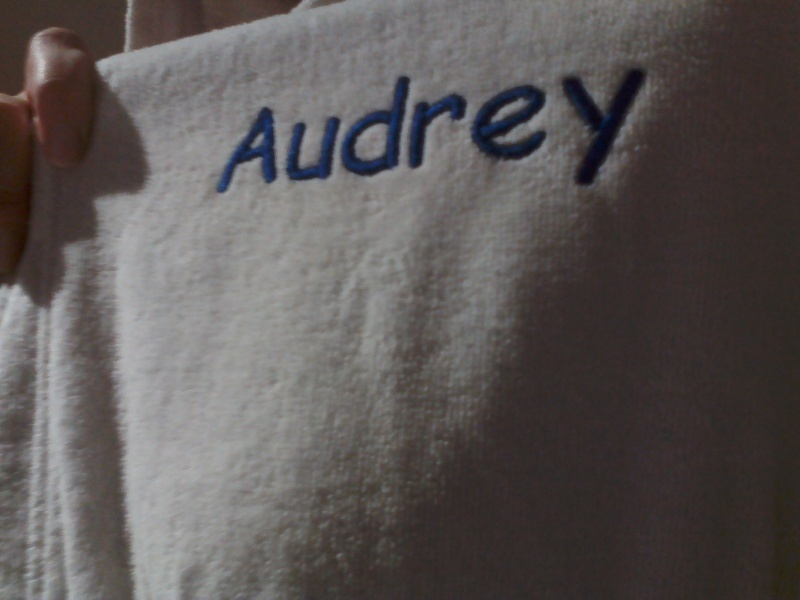text: (273, 49, 288, 195), (289, 49, 304, 195), (305, 49, 320, 195), (321, 49, 336, 195), (337, 49, 352, 195), (353, 49, 368, 195), (369, 49, 384, 195), (385, 49, 400, 195), (401, 49, 416, 195), (417, 49, 432, 195), (433, 49, 448, 195), (449, 49, 464, 195), (465, 49, 480, 195), (481, 49, 496, 195), (497, 49, 512, 195), (513, 49, 528, 195), (529, 49, 544, 195), (545, 49, 560, 195), (561, 49, 576, 195), (577, 49, 592, 195), (593, 49, 608, 195), (609, 49, 624, 195), (625, 49, 640, 195), (641, 49, 656, 195), (265, 49, 272, 195), (657, 49, 662, 195)
